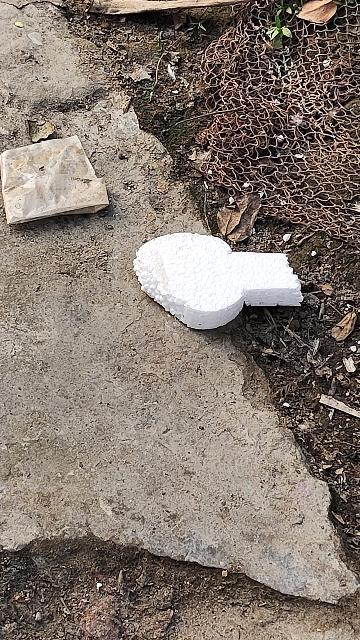cocksheet: (139, 225, 306, 326)
